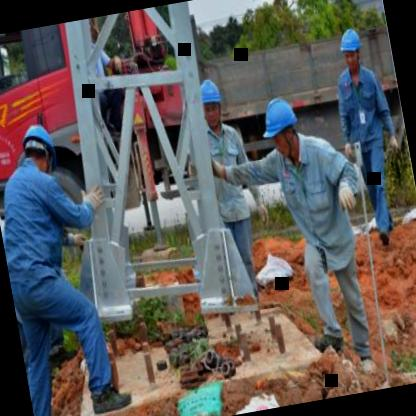helmet: (258, 93, 308, 169), (17, 117, 58, 173), (195, 74, 228, 130), (336, 23, 366, 72)
